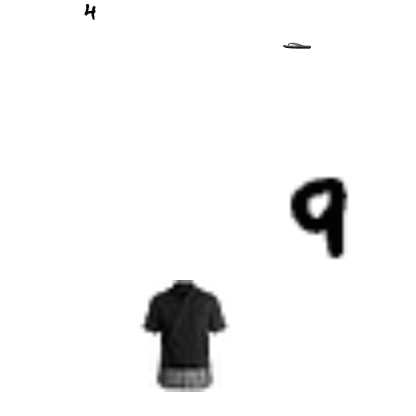4: (79, 0, 101, 22)
9: (263, 154, 375, 266)
Sandal: (283, 31, 311, 59)
Shirt: (129, 280, 241, 392)
